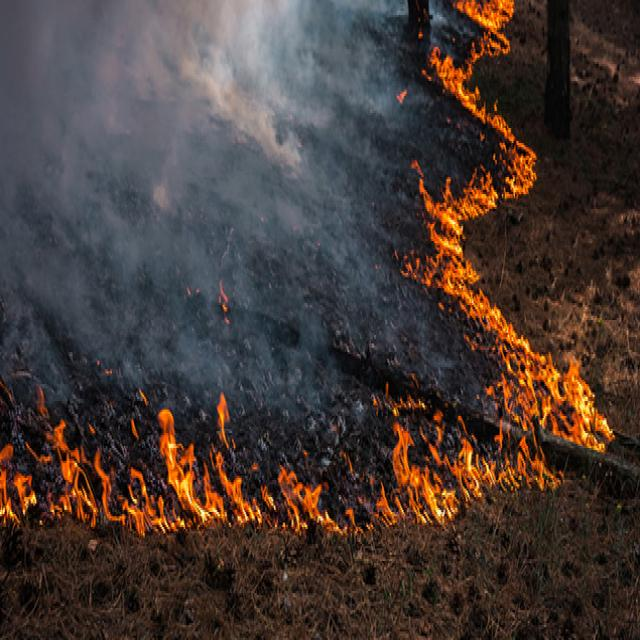Fire: (397, 169, 617, 457), (0, 386, 388, 538), (406, 0, 536, 198), (375, 412, 564, 527)
Smoke: (14, 0, 489, 410)
